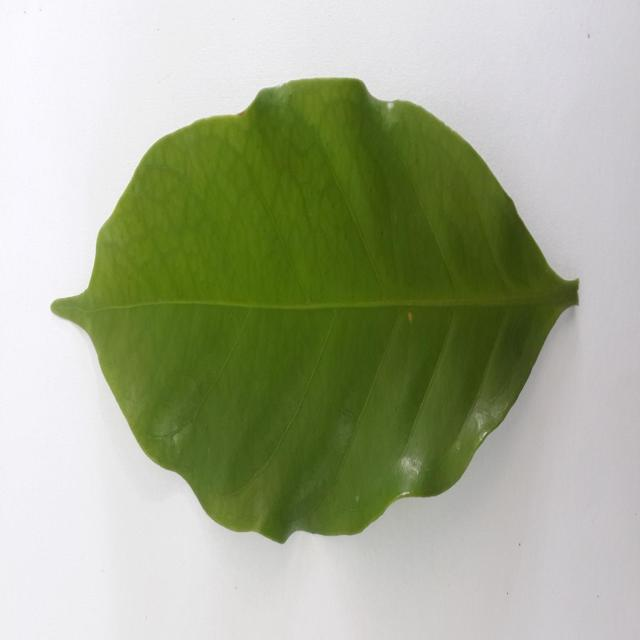Sanas: (49, 84, 581, 546)
